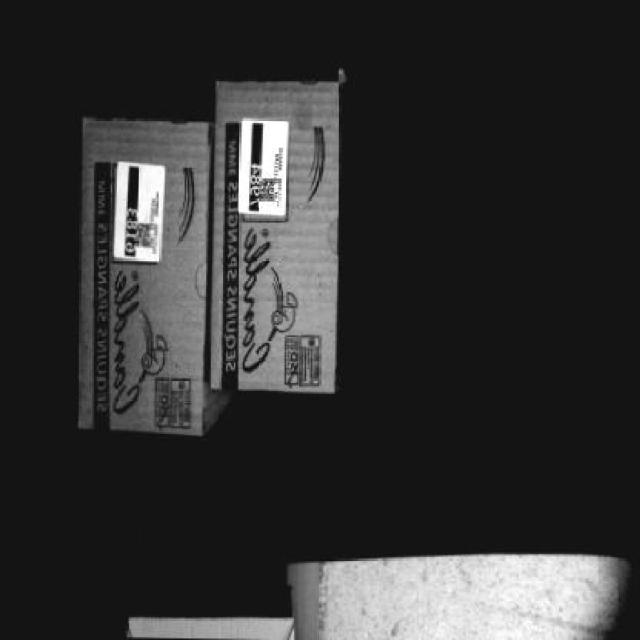cardboxes: (78, 115, 211, 432), (209, 79, 342, 388)
